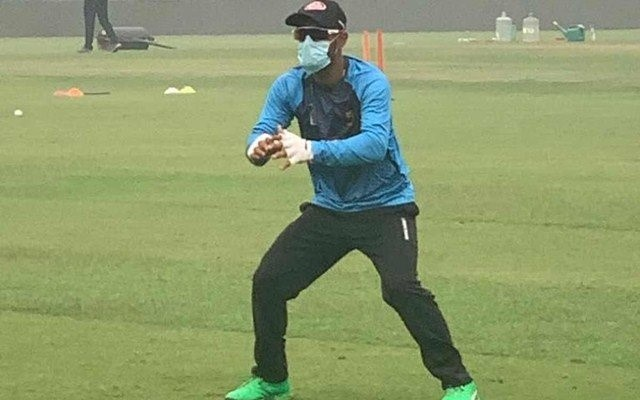face_with_mask: (286, 3, 348, 92)
